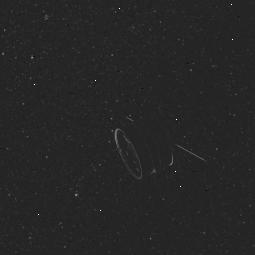double_start: (106, 102, 186, 186)
